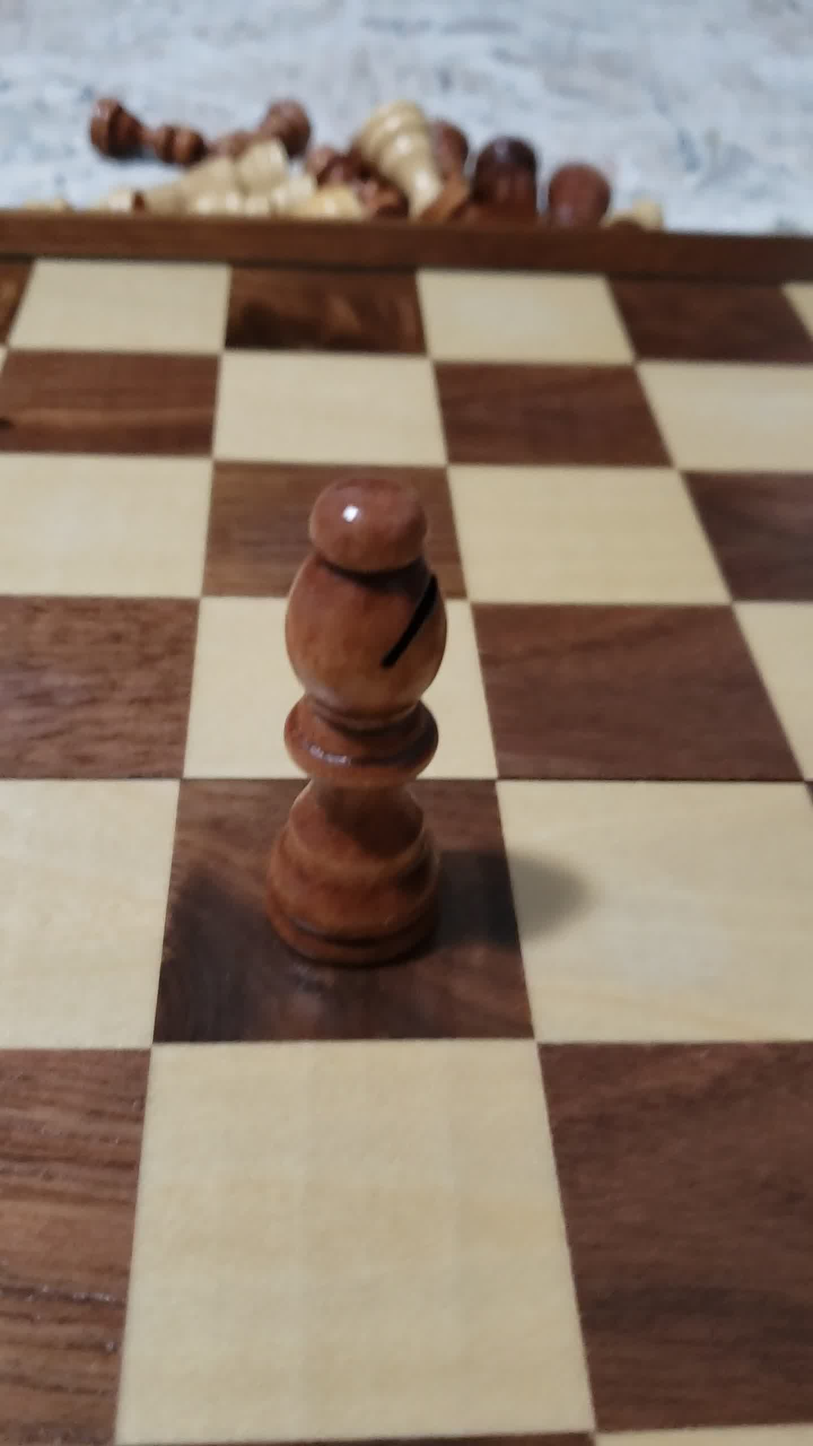black-bishop: (237, 444, 471, 971)
